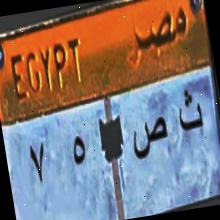5: (67, 127, 91, 176)
7: (24, 132, 50, 189)
saad: (126, 112, 174, 170)
thaa: (168, 77, 207, 138)
